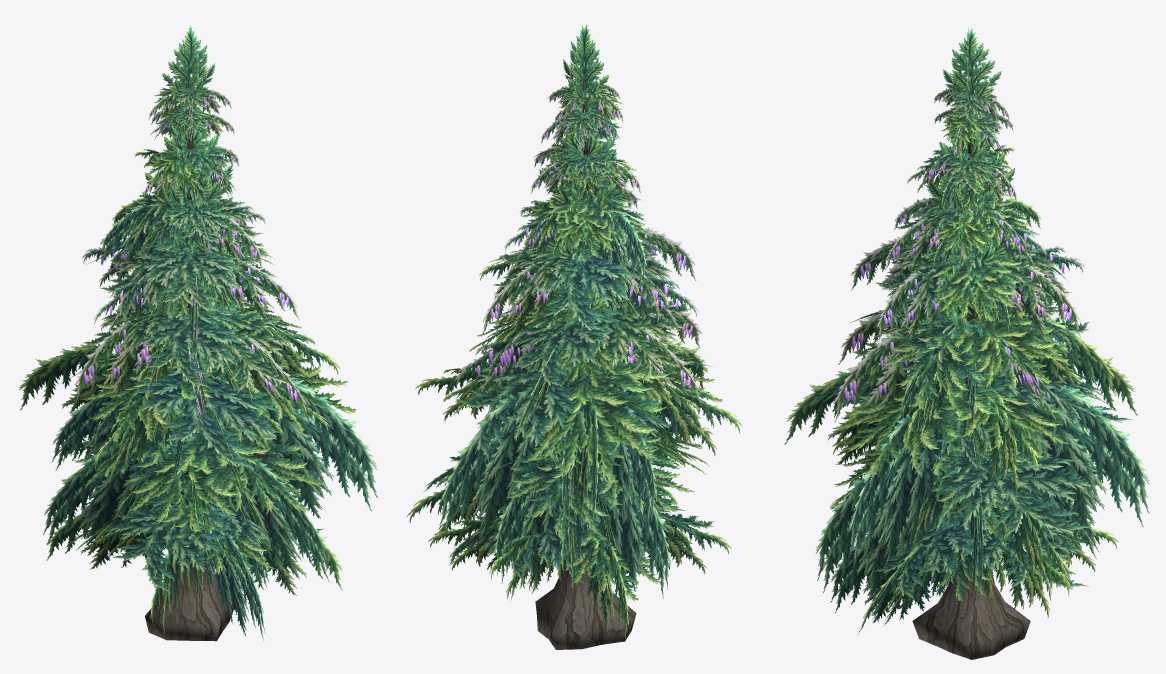
Rendered from tree_pine_pollen.glb.
3 renders of one model, left to right at view 1: azimuth 30°, elevation 25°; view 2: azimuth 150°, elevation 25°; view 3: azimuth 270°, elevation 25°, orthographic. The views are drawn at different scales.
Visible parts, largest first — view 1: tree_pine_pollen; view 2: tree_pine_pollen; view 3: tree_pine_pollen.
Boxes of the visible parts, x1=… form: tree_pine_pollen: x1=19, y1=25, x2=377, y2=641; tree_pine_pollen: x1=406, y1=24, x2=742, y2=649; tree_pine_pollen: x1=784, y1=27, x2=1149, y2=659.
Size of the model in its own units: 12.27 by 24.08 by 13.2.
2 materials, 2 textured.
